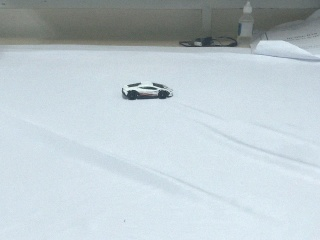bottle: (237, 1, 254, 48)
toy_car: (121, 81, 174, 100)
